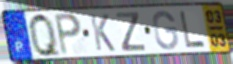G: (151, 9, 180, 51)
K: (88, 13, 117, 53)
L: (178, 10, 208, 48)
P: (52, 12, 83, 57)
Q: (27, 11, 63, 59)
Z: (115, 11, 148, 53)
